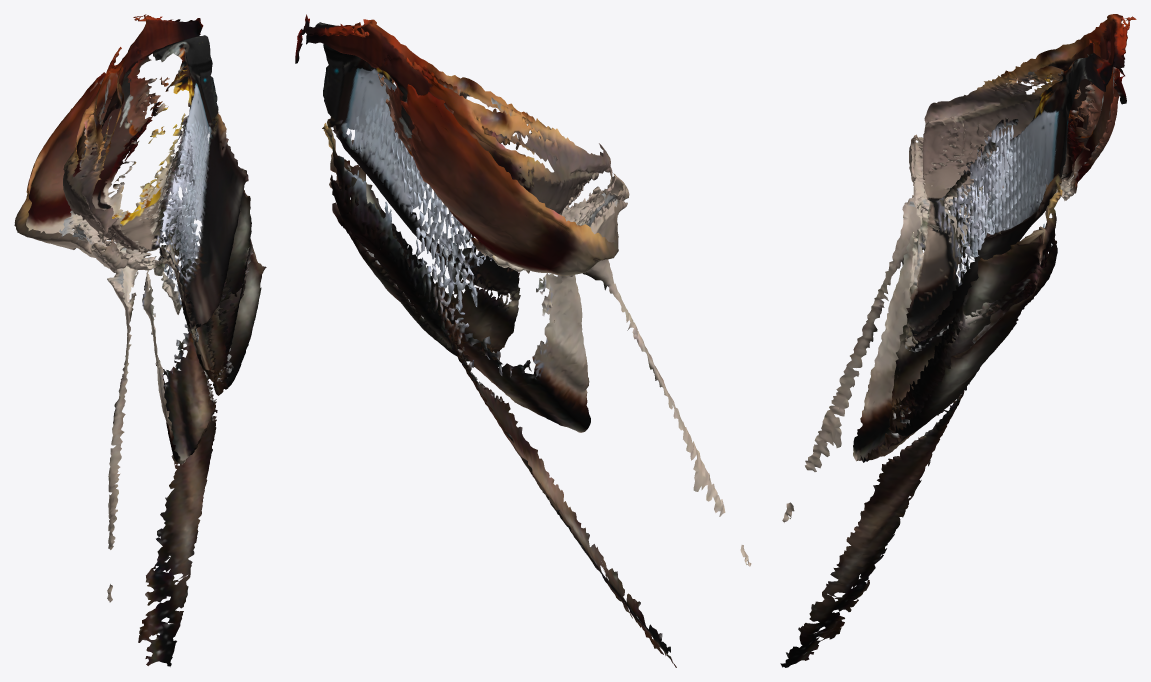
File: scan_20260927_211542_42156.glb
3 renders of one model, left to right at view 1: azimuth 30°, elevation 25°; view 2: azimuth 150°, elevation 25°; view 3: azimuth 270°, elevation 25°, orthographic. The views are drawn at different scales.
Visible parts, largest first — view 1: MobileScan3D_Textured; view 2: MobileScan3D_Textured; view 3: MobileScan3D_Textured.
Boxes of the visible parts, left/top/right/bottom form: MobileScan3D_Textured: left=14, top=14, right=266, bottom=666; MobileScan3D_Textured: left=295, top=14, right=751, bottom=667; MobileScan3D_Textured: left=780, top=14, right=1136, bottom=667.
Size of the model in its own units: 0.7765 by 1.8 by 0.806.
1 material, 1 textured.
